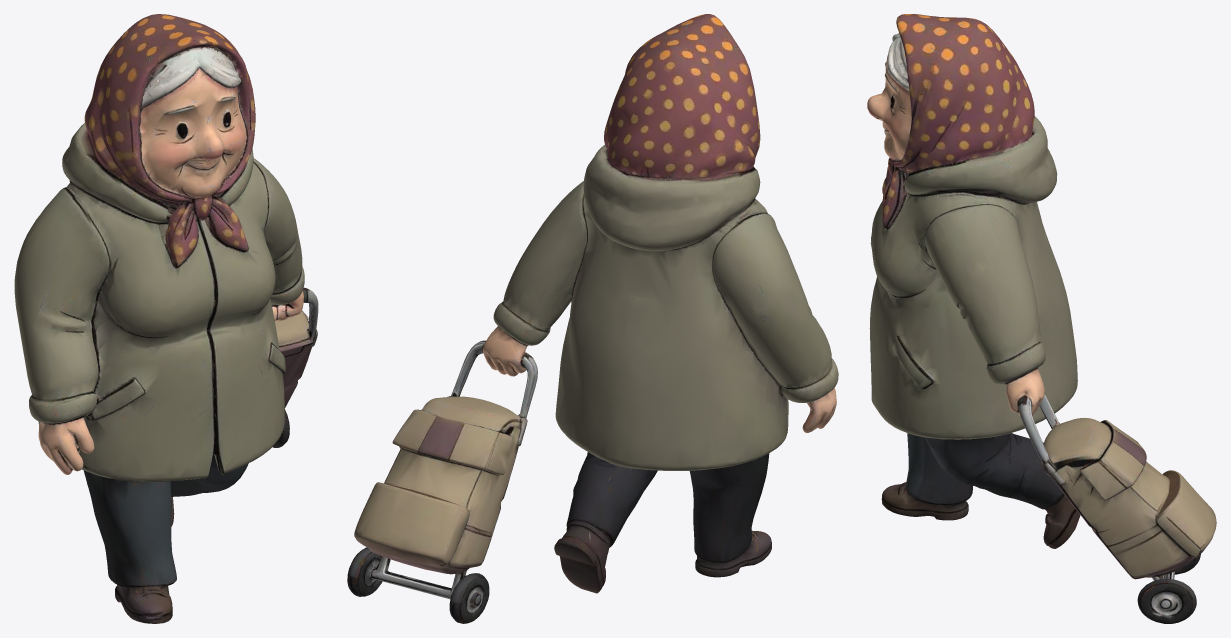
The model's file is getkong-ped7.glb.
The picture shows the model from 3 angles, left to right: view 1: azimuth 30°, elevation 25°; view 2: azimuth 150°, elevation 25°; view 3: azimuth 270°, elevation 25°; orthographic projection. The views are drawn at different scales.
Parts seen in each view (by area): view 1: Mesh_0; view 2: Mesh_0; view 3: Mesh_0.
Boxes of the visible parts, x1,y1,x2,y2 form: Mesh_0: (14, 14, 318, 623); Mesh_0: (347, 14, 838, 623); Mesh_0: (867, 14, 1216, 623).
Bounding box in the file's own units: 1.32 × 1.9 × 1.18.
1 material, 1 textured.
